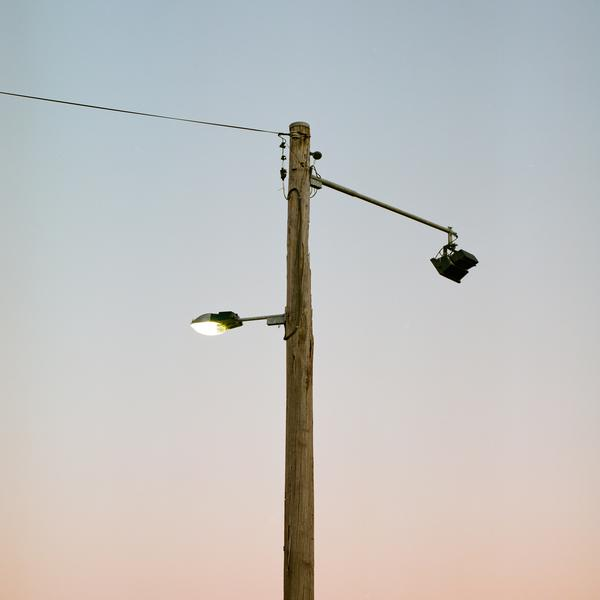utility_pole: (179, 105, 483, 383)
